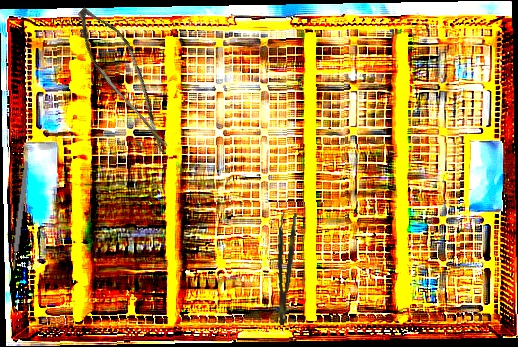Micro Scissor: (55, 1, 198, 152)
Scalpel Handle: (10, 161, 30, 269)
Tissue Forceps: (269, 211, 298, 326)
